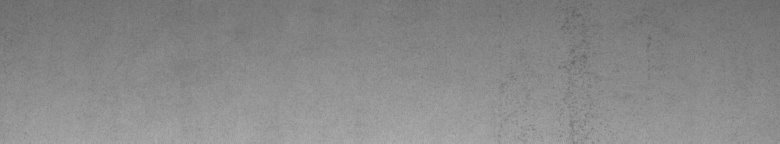ib: (558, 10, 652, 128)
